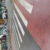zebra: (12, 1, 33, 49)
